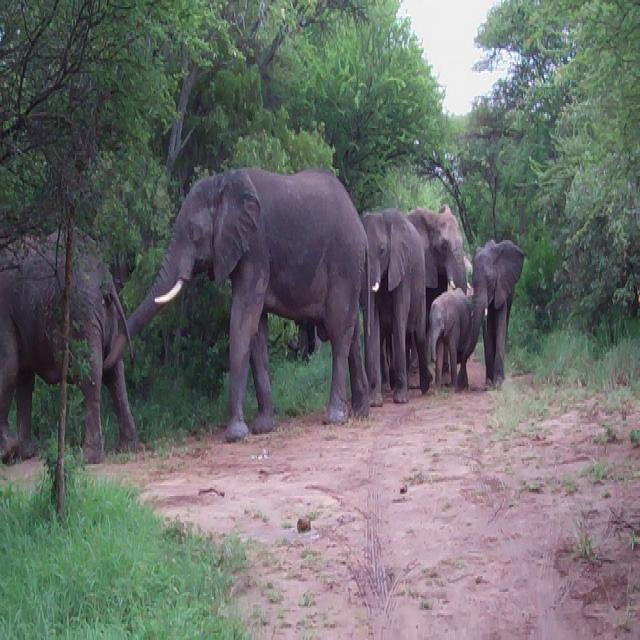Elephant: (106, 165, 371, 443), (0, 226, 138, 464), (360, 207, 433, 406), (405, 203, 467, 373), (458, 236, 526, 390), (426, 286, 472, 391)
